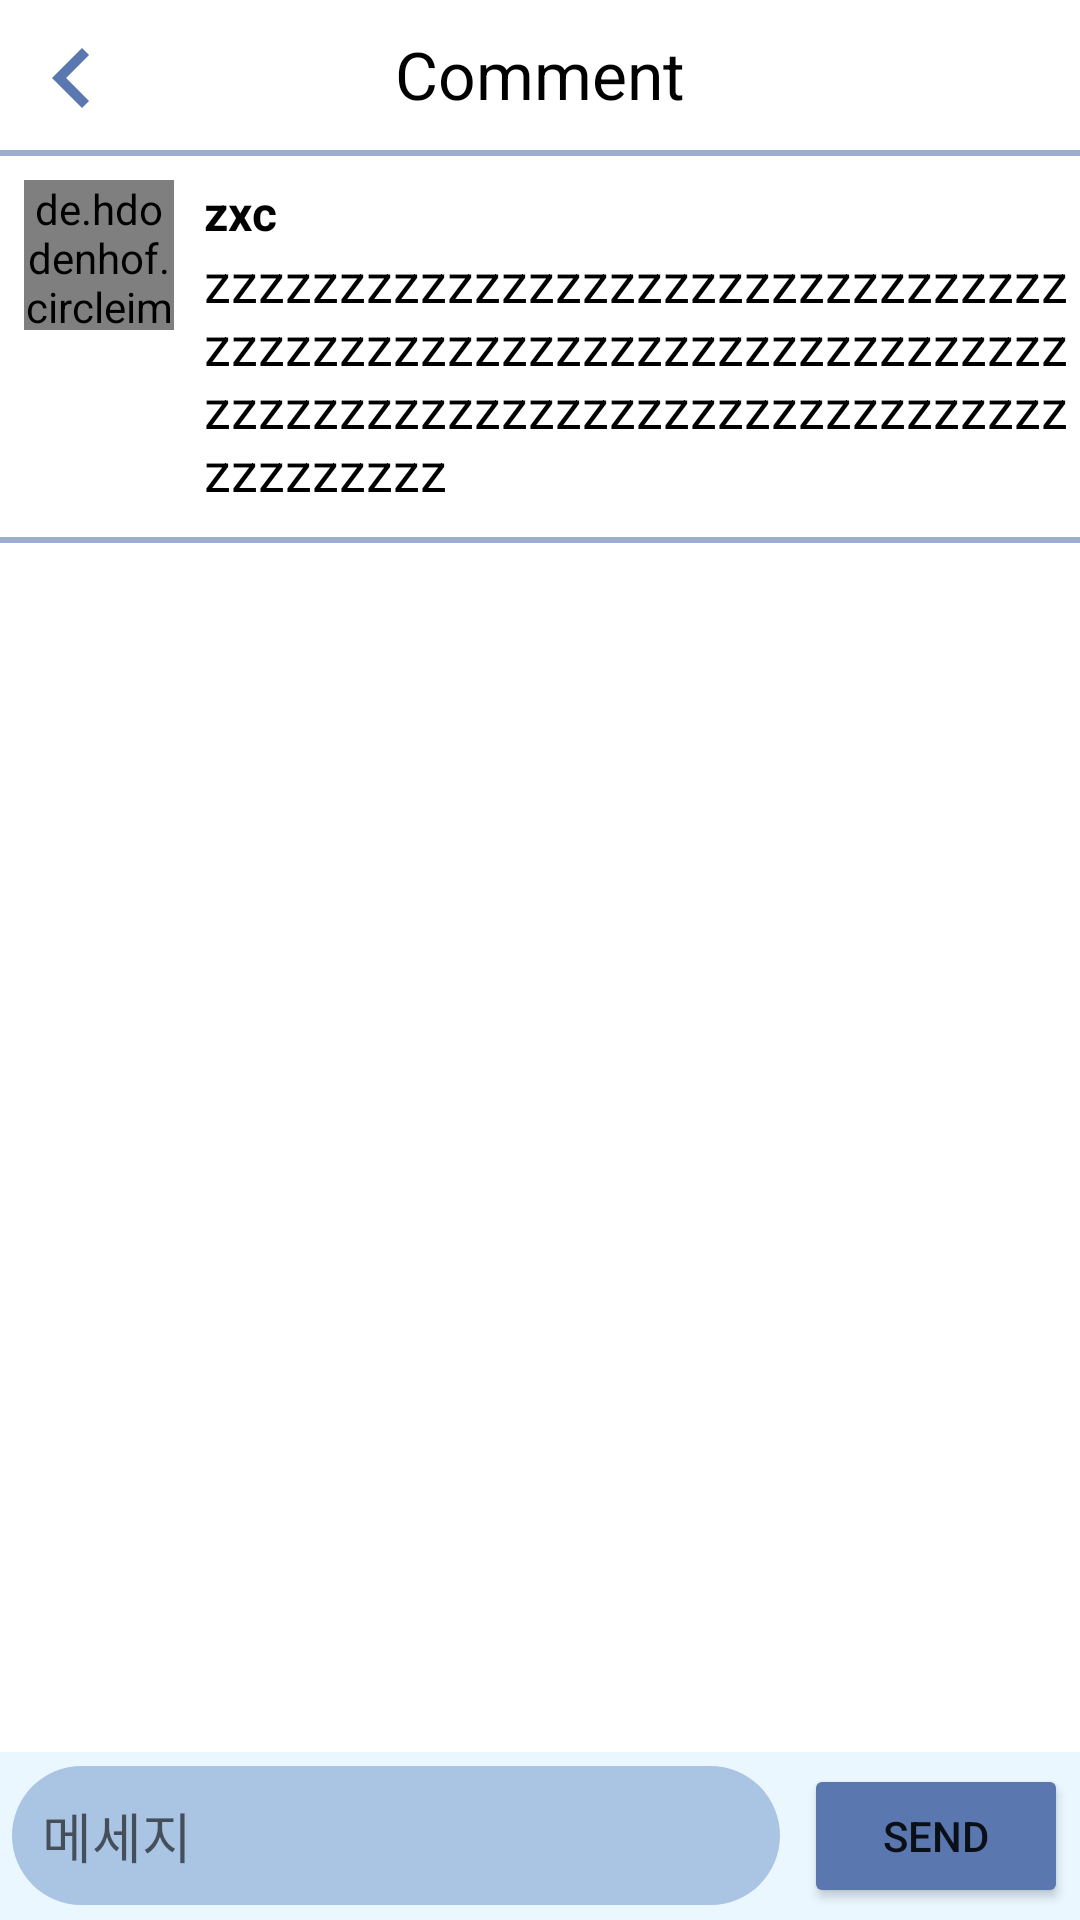

Icon bounding boxes for this 1080w x 1920h phone screenshot, format (x1, y1, x2, y2):
back: (52, 48, 89, 108)
